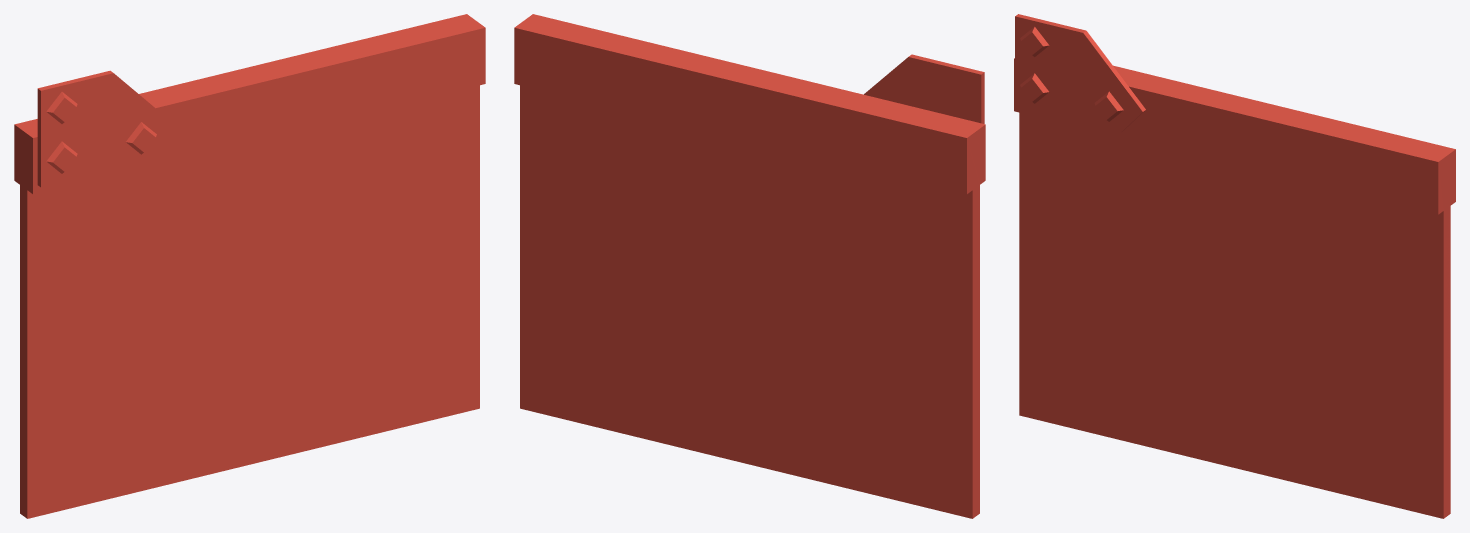
The model's file is SM_Production_Slate_Black_Base.fbx.
3 renders of one model, left to right at view 1: azimuth 30°, elevation 25°; view 2: azimuth 150°, elevation 25°; view 3: azimuth 330°, elevation 25°, orthographic. The views are drawn at different scales.
Visible parts, largest first — view 1: SM_Production_Slate_Black_Base; view 2: SM_Production_Slate_Black_Base; view 3: SM_Production_Slate_Black_Base.
Part boxes in pixels (x1=…): SM_Production_Slate_Black_Base: x1=14, y1=14, x2=485, y2=518; SM_Production_Slate_Black_Base: x1=514, y1=14, x2=985, y2=518; SM_Production_Slate_Black_Base: x1=1014, y1=14, x2=1455, y2=518.
Bounding box in the file's own units: 2.86 × 30 × 27.46.
